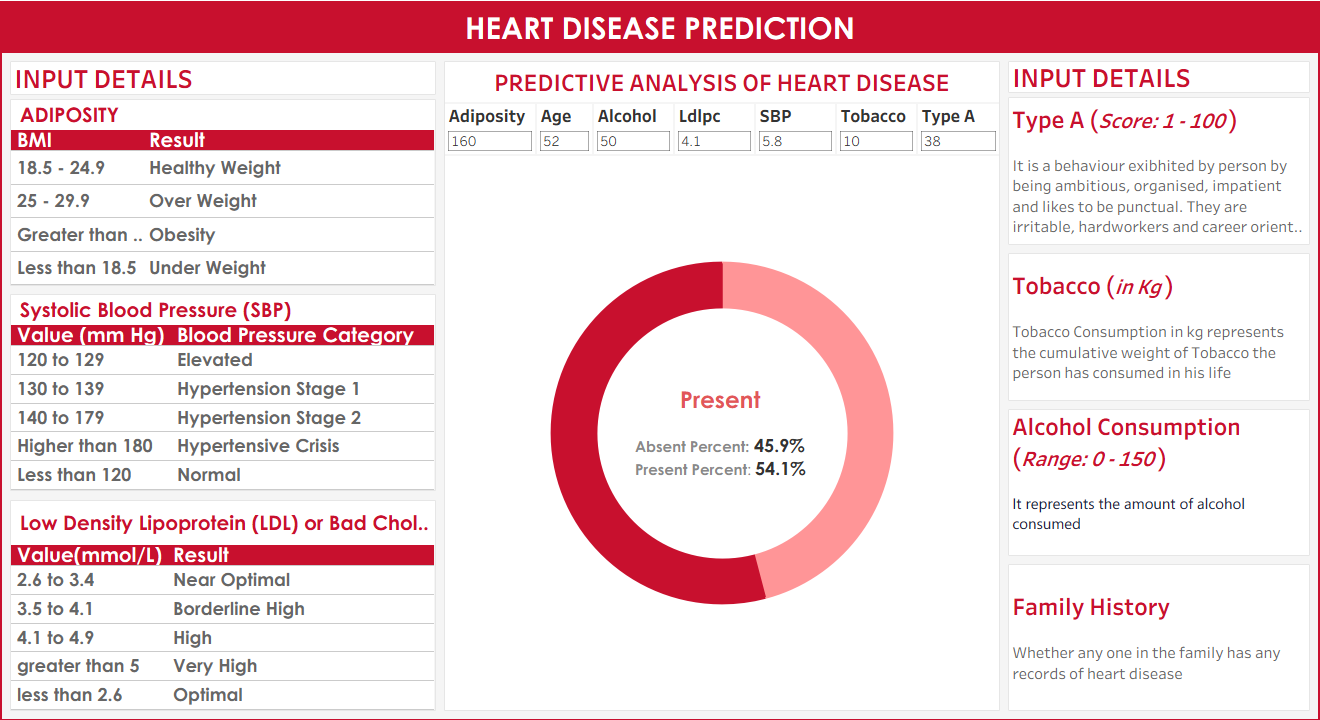

This screenshot's page, from the dashboard's own definition file:
{"tool":"tableau","page":{"name":"Dashboard 1","canvas":[1320,720],"ordinal":0},"visuals":[{"type":"text","box":[2,2,1316,50]},{"type":"text","box":[6,60,434,34]},{"type":"text","box":[1004,60,310,32]},{"type":"text","box":[445,61,554,40]},{"type":"text","box":[1004,92,310,156]},{"type":"text","box":[11,99,424,30]},{"type":"parameter","param":"[Parameters].[Parameter 1]","box":[445,101,92,54]},{"type":"parameter","param":"[Parameters].[Parameter 2]","box":[537,101,57,54]},{"type":"parameter","param":"[Parameters].[Parameter 3]","box":[594,101,81,54]},{"type":"parameter","param":"[Parameters].[Parameter 4]","box":[675,101,81,54]},{"type":"parameter","param":"[Parameters].[Parameter 6]","box":[756,101,81,54]},{"type":"parameter","param":"[Parameters].[Parameter 7]","box":[837,101,81,54]},{"type":"parameter","param":"[Parameters].[Parameter 8]","box":[918,101,81,54]},{"type":"worksheet","title":"Adiposity","mark":"Automatic","rows":["BMI","Result"],"box":[11,129,424,155.3]},{"type":"worksheet","title":"Sheet 2","mark":"Pie","rows":["Calculation_948852149219139587","Calculation_948852149219155973"],"box":[445,155,554,554]},{"type":"text","box":[1004,248,310,156]},{"type":"text","box":[11,294.3,424,30]},{"type":"worksheet","title":"SBP","mark":"Automatic","rows":["Value (mm Hg)","Blood Pressure Category"],"box":[11,324.3,424,165.3]},{"type":"text","box":[1004,404,310,155]},{"type":"text","box":[11,499.7,424,44]},{"type":"worksheet","title":"LDL","mark":"Automatic","rows":["Value(mmol/L)","Result"],"box":[11,543.7,424,165.3]},{"type":"text","box":[1004,559,310,155]}]}

Visuals, with their boxes in screenshot pixels (x1, y1, x2, y2), scaled from the page's 1320x720 canvas onto the 1320x720 screenshot:
text: crop(2, 2, 1318, 52)
text: crop(6, 60, 440, 94)
text: crop(1004, 60, 1314, 92)
text: crop(445, 61, 999, 101)
text: crop(1004, 92, 1314, 248)
text: crop(11, 99, 435, 129)
parameter: crop(445, 101, 537, 155)
parameter: crop(537, 101, 594, 155)
parameter: crop(594, 101, 675, 155)
parameter: crop(675, 101, 756, 155)
parameter: crop(756, 101, 837, 155)
parameter: crop(837, 101, 918, 155)
parameter: crop(918, 101, 999, 155)
"Adiposity" worksheet: crop(11, 129, 435, 284)
"Sheet 2" worksheet (Pie marks): crop(445, 155, 999, 709)
text: crop(1004, 248, 1314, 404)
text: crop(11, 294, 435, 324)
"SBP" worksheet: crop(11, 324, 435, 490)
text: crop(1004, 404, 1314, 559)
text: crop(11, 500, 435, 544)
"LDL" worksheet: crop(11, 544, 435, 709)
text: crop(1004, 559, 1314, 714)
